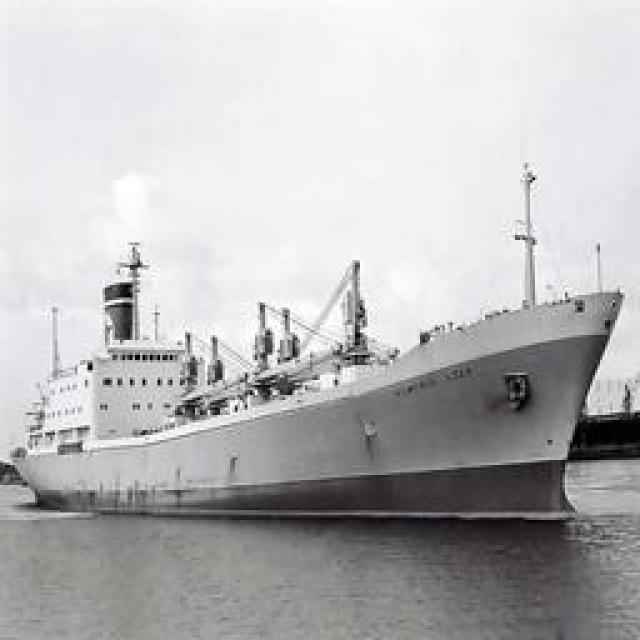Ship: (33, 241, 618, 526)
